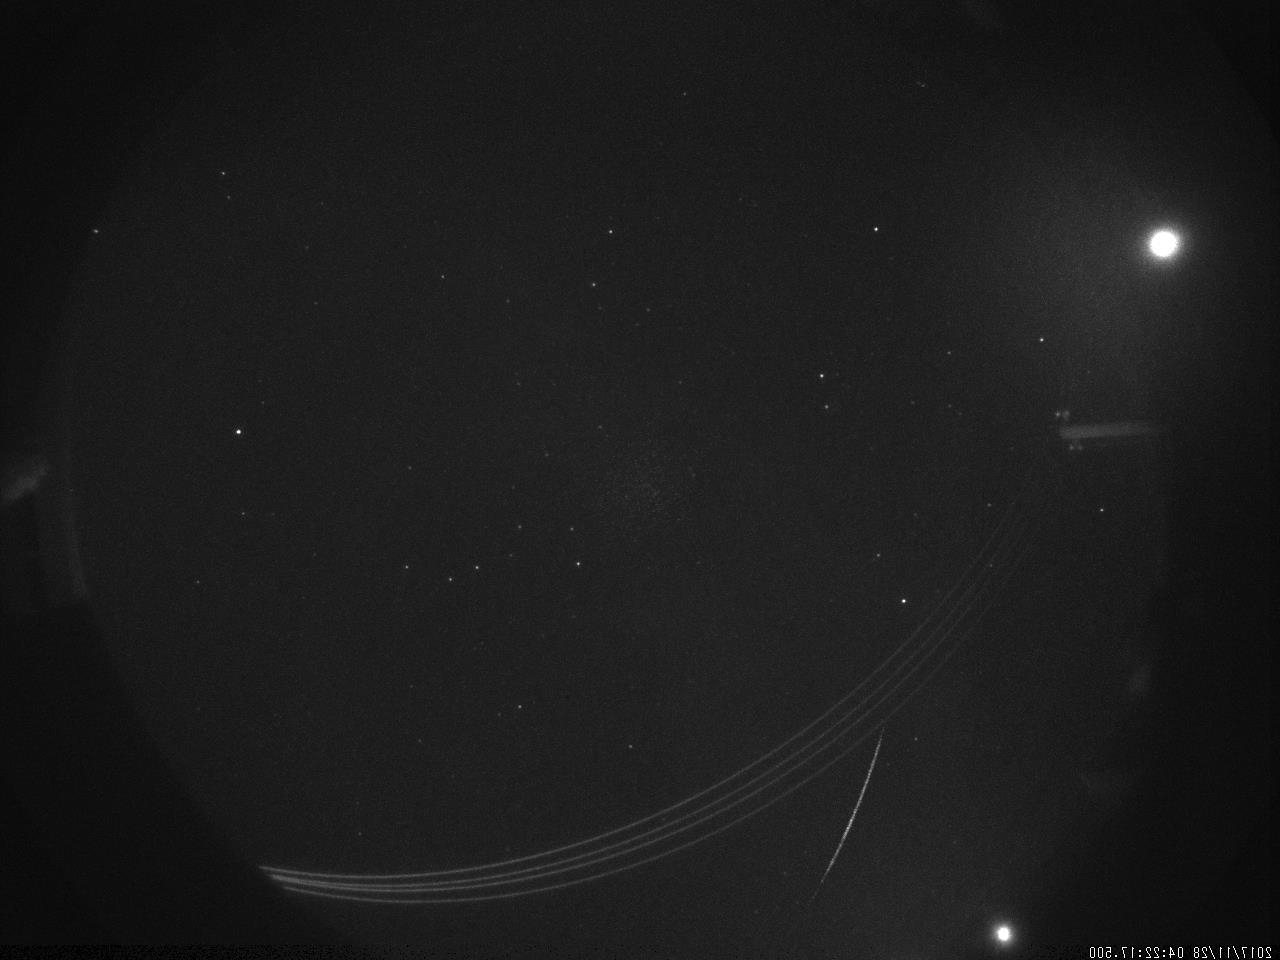meteor: (790, 723, 905, 918)
